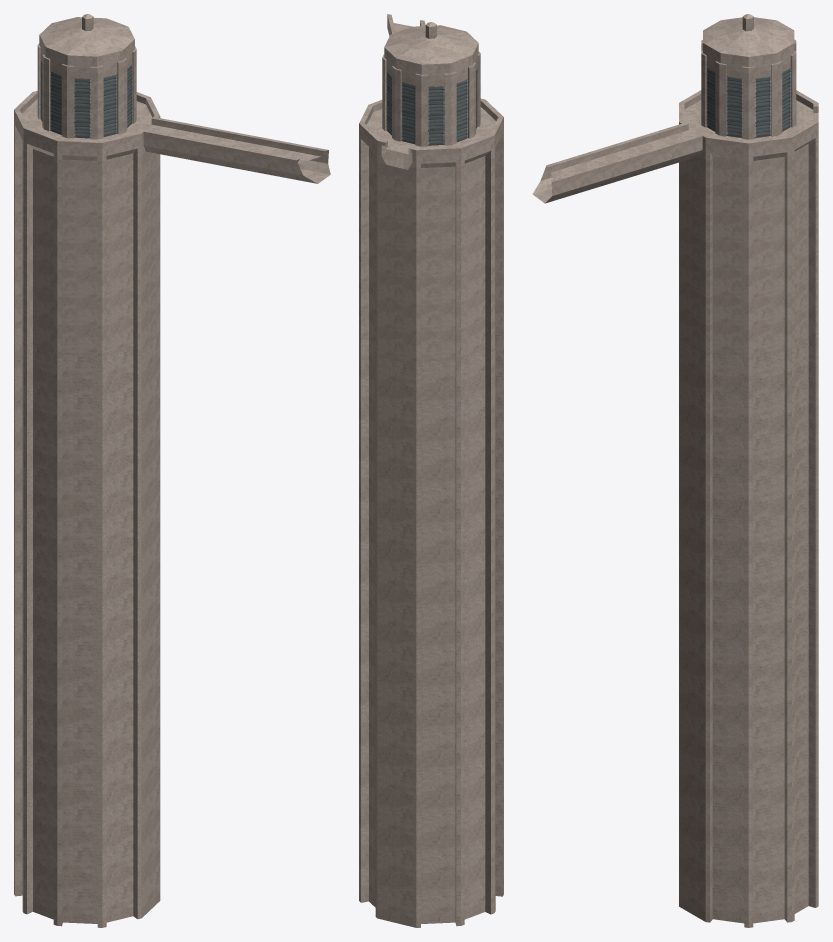
Rendered from dam_turbine_1.obj.
3 renders of one model, left to right at view 1: azimuth 30°, elevation 25°; view 2: azimuth 150°, elevation 25°; view 3: azimuth 270°, elevation 25°, orthographic.
Visible parts, largest first — view 1: dam_turbine_1; view 2: dam_turbine_1; view 3: dam_turbine_1.
Part boxes in pixels (<box>): dam_turbine_1: <box>14,14,330,927</box>; dam_turbine_1: <box>359,14,503,927</box>; dam_turbine_1: <box>532,14,818,927</box>.
Size of the model in its own units: 31.55 by 129 by 37.82.
Materials: 2 (2 with a texture image).
